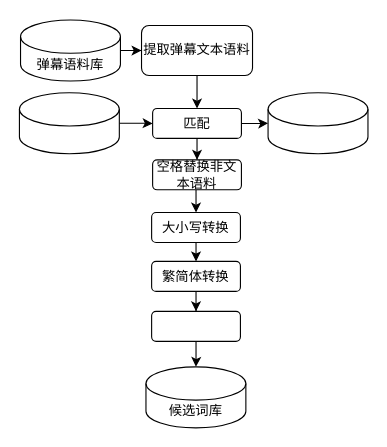
This 387x447 diagram has some shape labels left out. Each missing label, with the centre of its shape:
"N元切分" goes at (195,325).
"弹幕颜文字" goes at (317,123).
"颜文字语料库" goes at (68,123).
